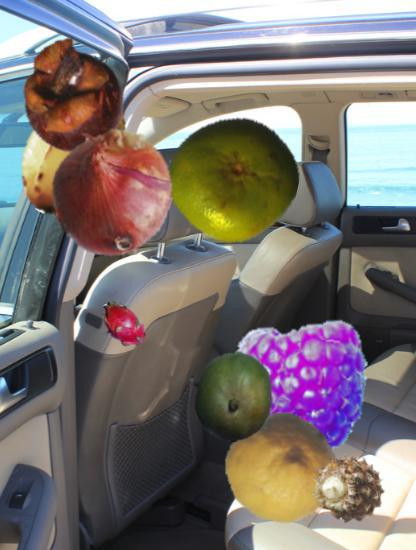Carambula: (3, 77, 148, 222)
Lemon: (225, 412, 339, 526)
Mango: (187, 351, 278, 442)
Mangostan: (13, 38, 131, 156)
Onion: (45, 125, 180, 260)
Pineapple: (311, 449, 388, 526)
Pitahaya: (95, 299, 149, 353)
Pomelo: (167, 114, 299, 246)
Raspberry: (232, 319, 371, 458)
